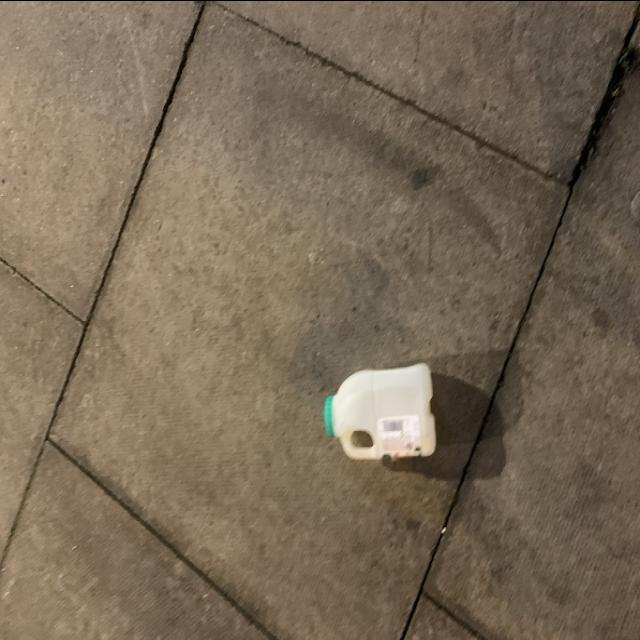HDPEM: (318, 352, 442, 466)
